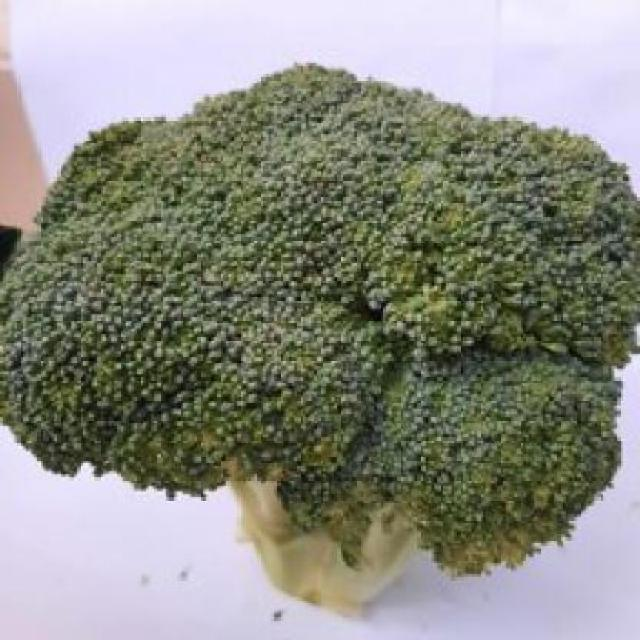broccoli: (9, 111, 608, 614)
